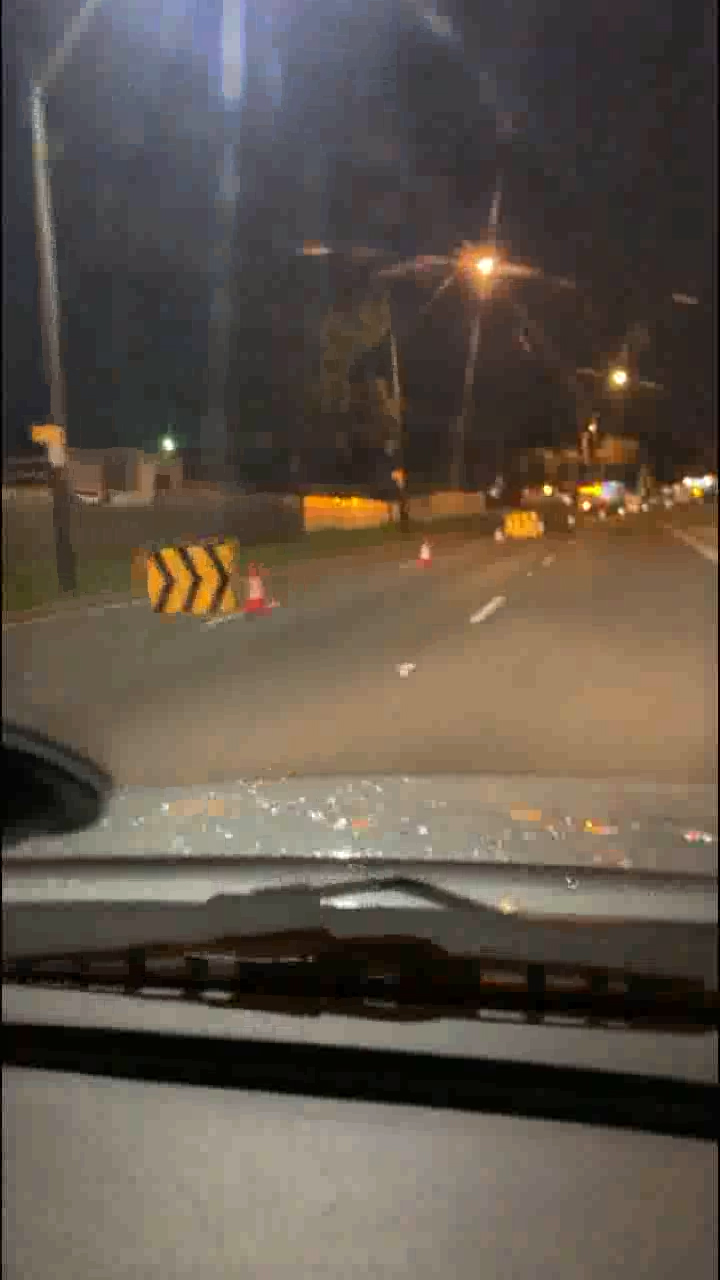road cone: (412, 540, 427, 565)
road works sign board: (133, 552, 245, 617), (502, 509, 543, 536)
